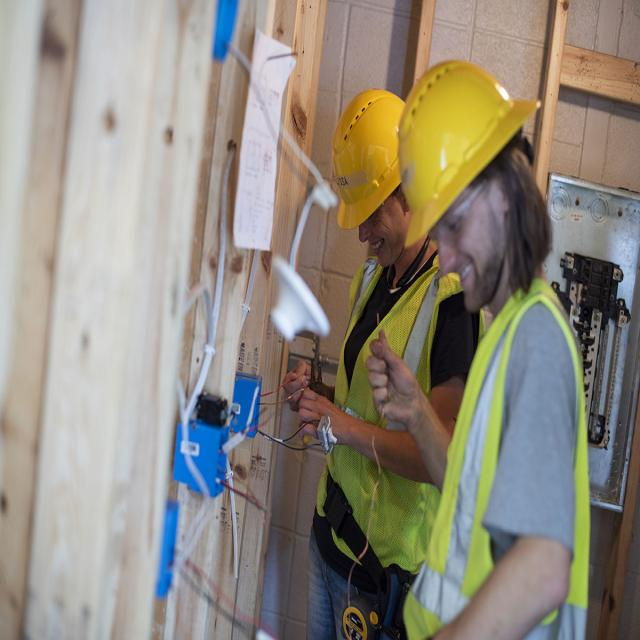Reflective-Jacket: (410, 284, 592, 638), (316, 248, 462, 574)
Safety-Helmet: (398, 52, 546, 240), (329, 82, 406, 230)
